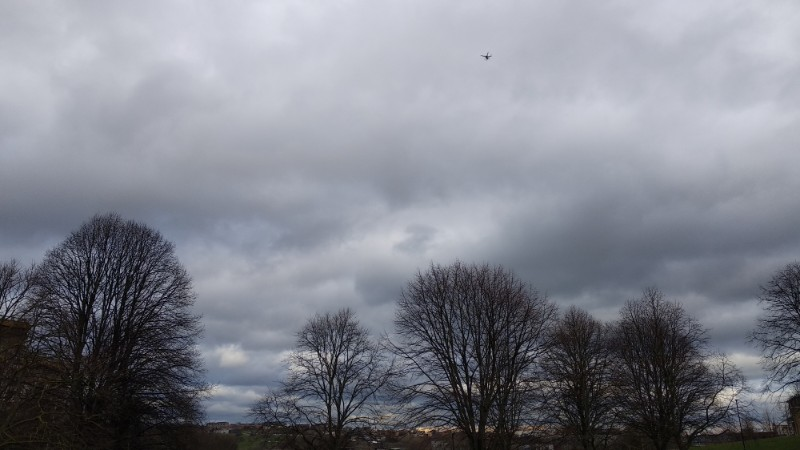drone: (482, 51, 494, 62)
